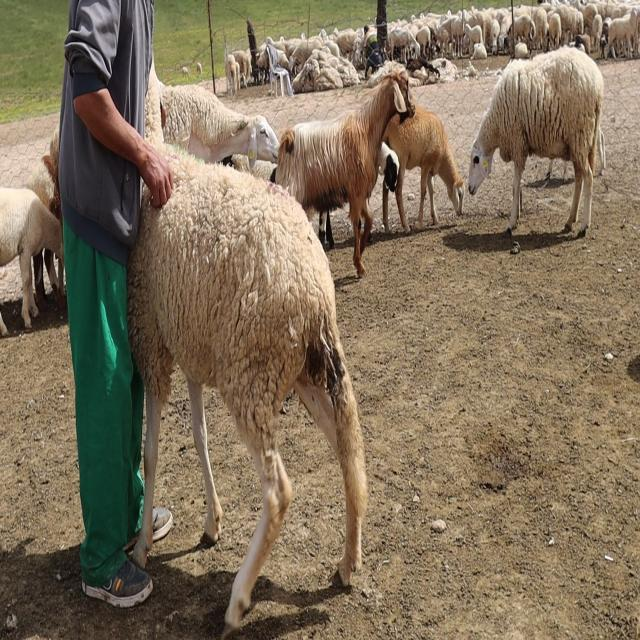Score_1: (127, 62, 367, 639)
